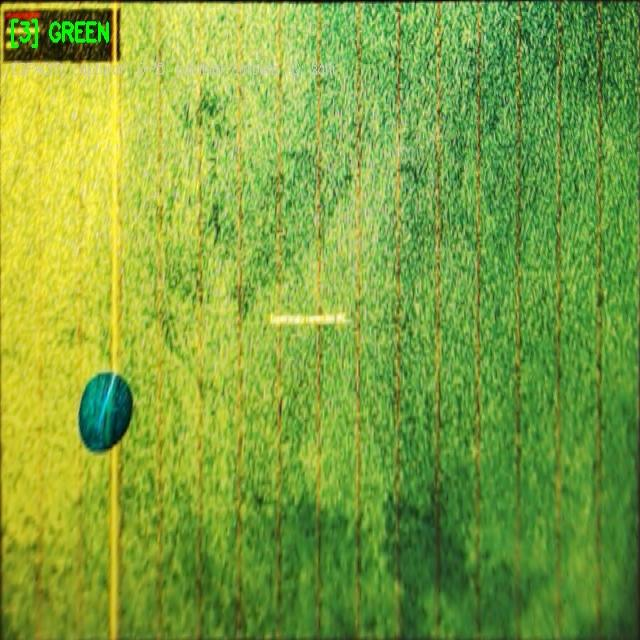green: (78, 372, 134, 454)
